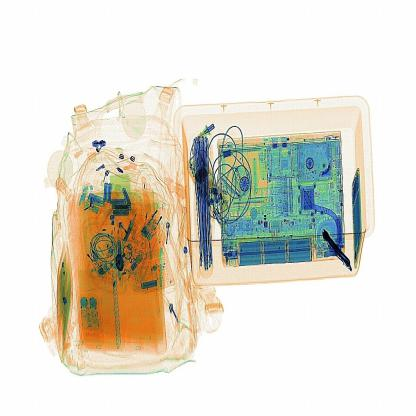knife: (324, 225, 354, 274)
